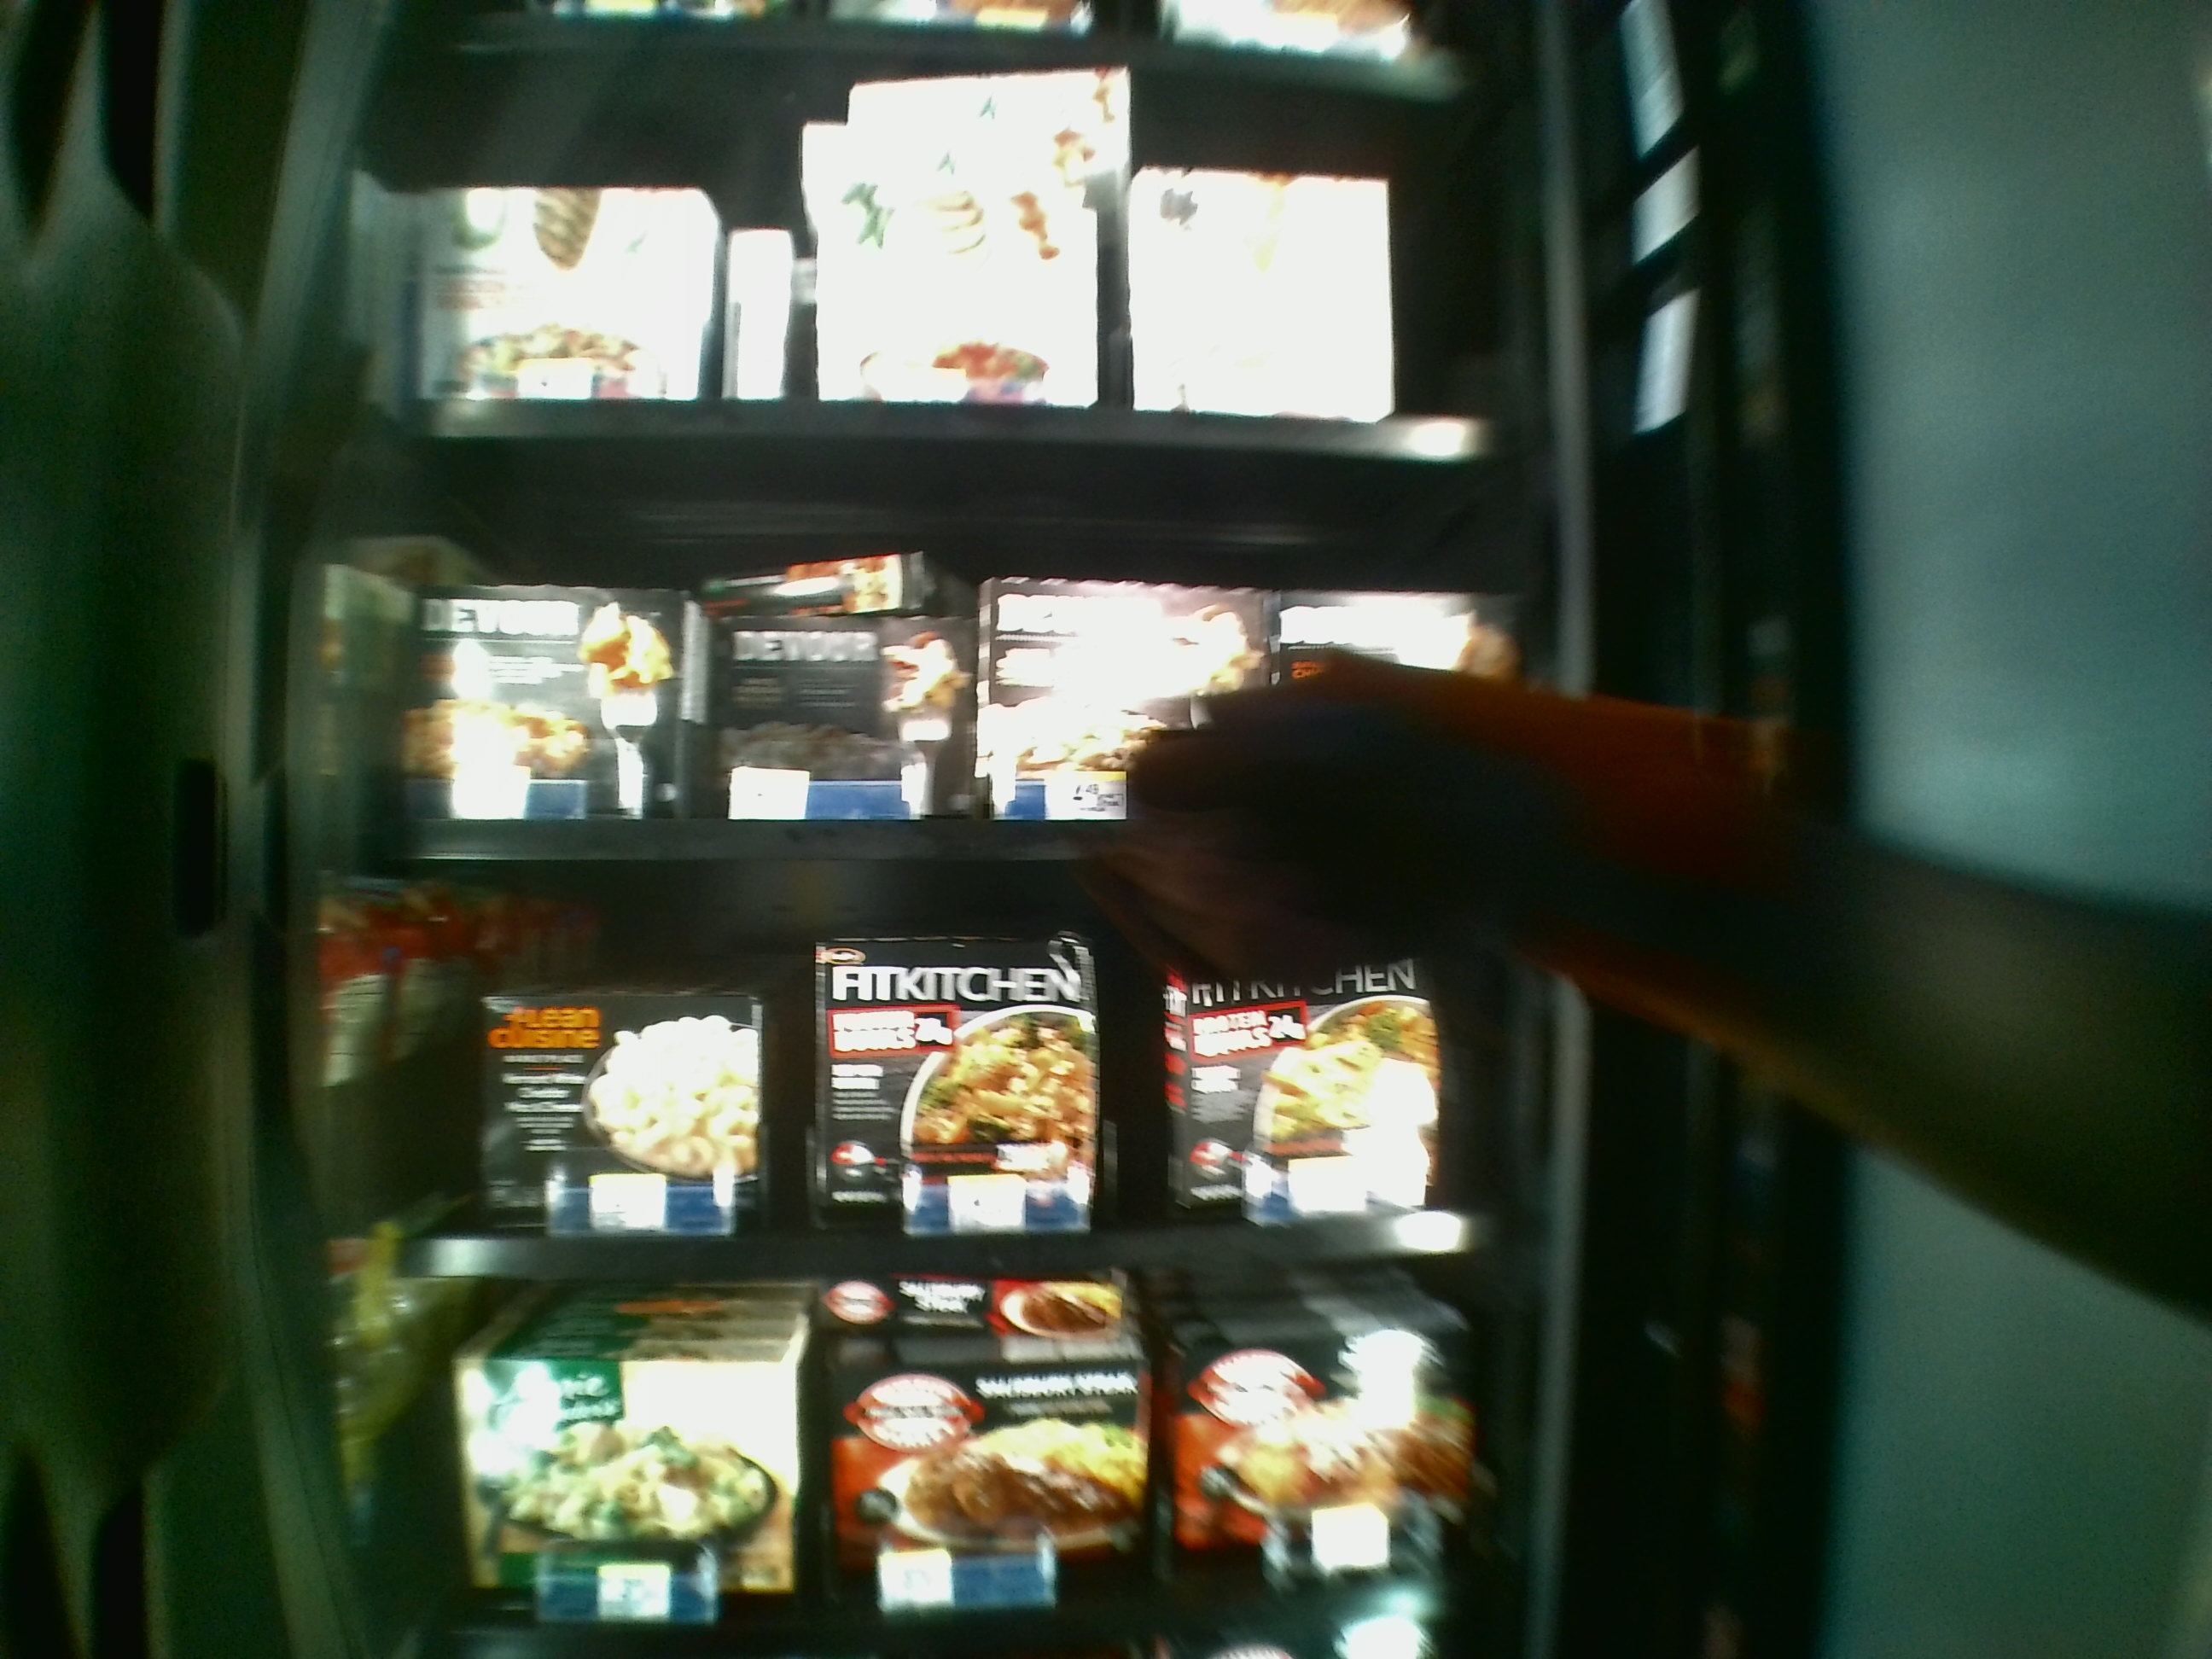shelf: (374, 446, 1538, 864), (371, 871, 1533, 1284)
